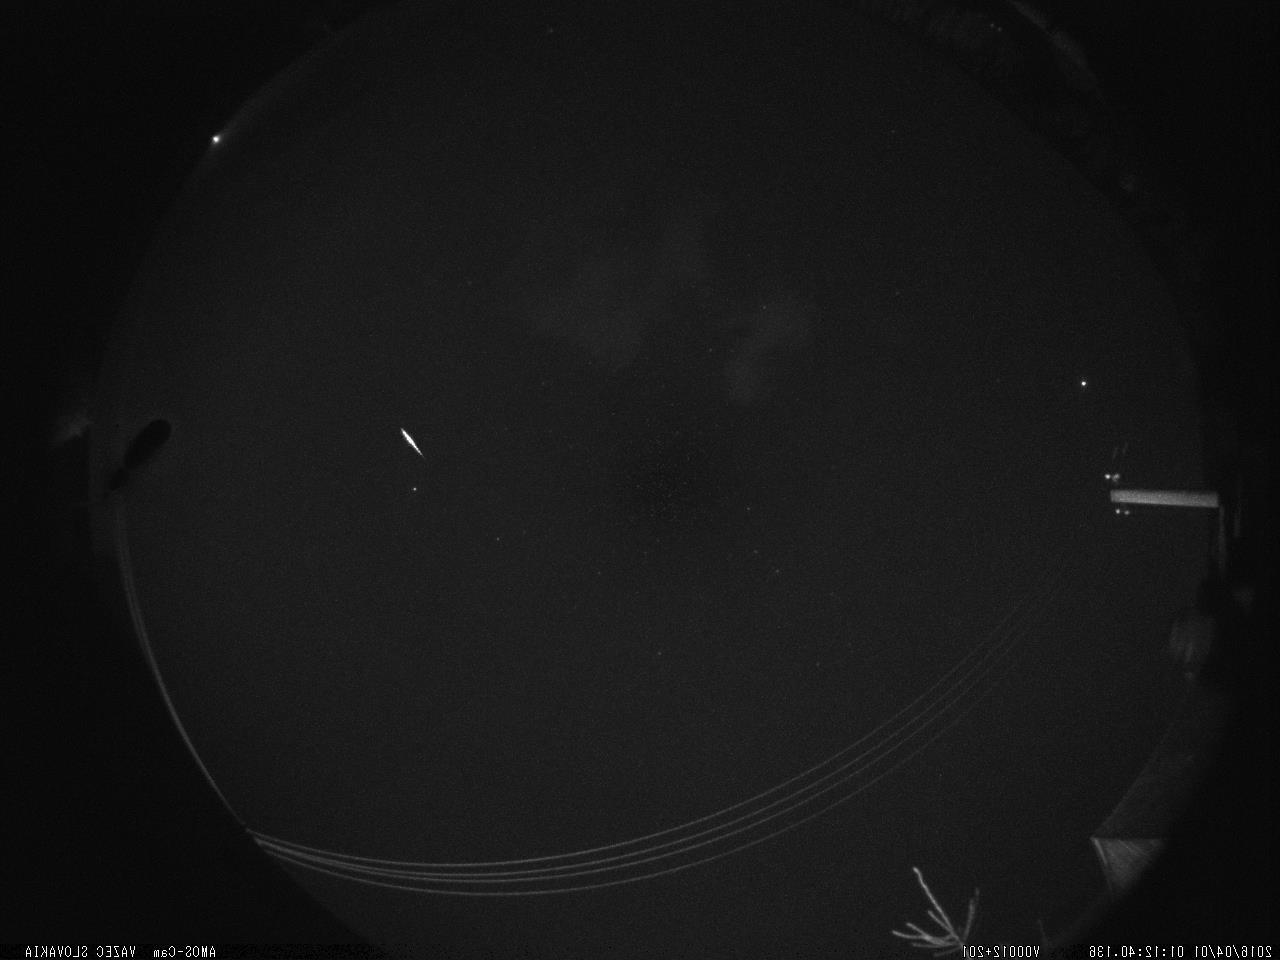meteor: (387, 418, 432, 465)
